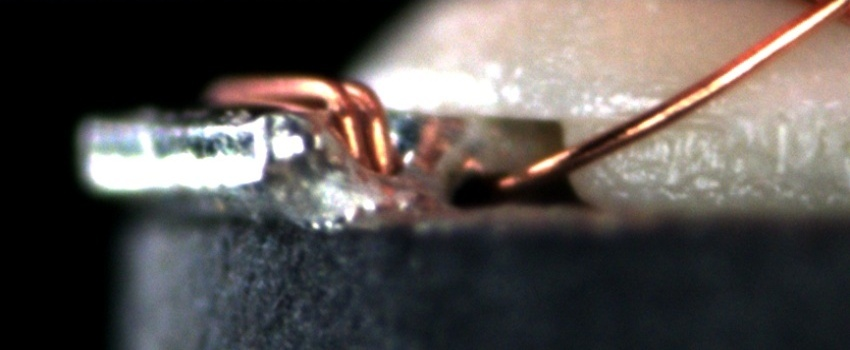CL: (797, 0, 848, 32)
DL: (588, 90, 734, 148)
TE: (201, 68, 394, 184)
